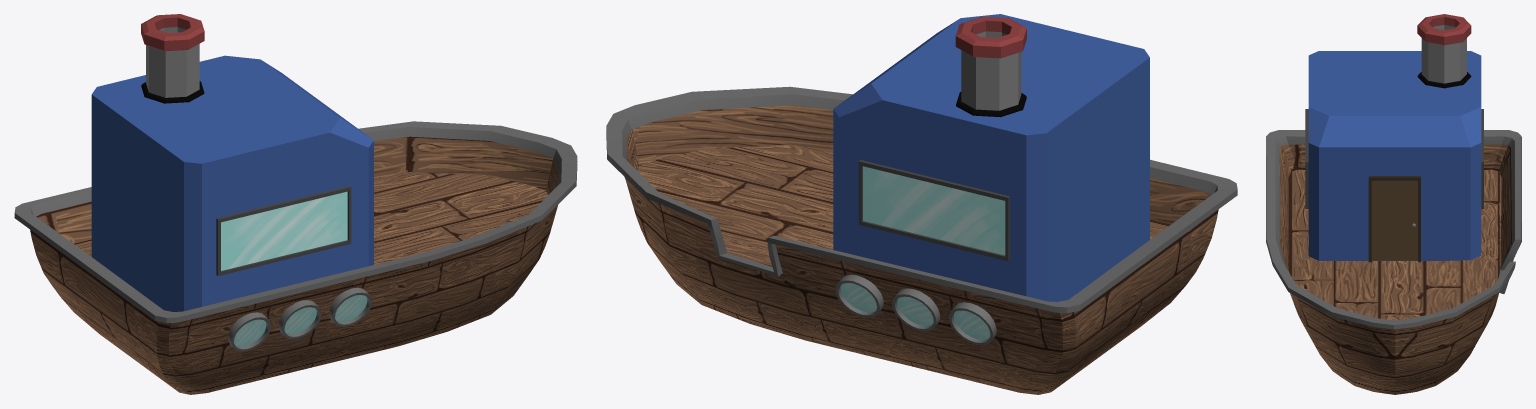
The model's file is Boat 1.fbx.
The picture shows the model from 3 angles, left to right: view 1: azimuth 30°, elevation 25°; view 2: azimuth 150°, elevation 25°; view 3: azimuth 270°, elevation 25°; orthographic projection. The views are drawn at different scales.
Parts seen in each view (by area): view 1: Plane, Cube.001, Cube.005, Cylinder, Circle.001; view 2: Plane, Cube.001, Cube.003, Cylinder, Circle; view 3: Plane, Cube.001, Cube, Cylinder, Cube.005, Cube.003.
Boxes of the visible parts, x1=… form: Plane: x1=14, y1=121, x2=577, y2=394; Cube.001: x1=91, y1=55, x2=373, y2=311; Cube.005: x1=216, y1=186, x2=351, y2=276; Cylinder: x1=141, y1=14, x2=204, y2=103; Circle.001: x1=228, y1=287, x2=371, y2=351; Plane: x1=606, y1=86, x2=1237, y2=394; Cube.001: x1=833, y1=14, x2=1149, y2=301; Cube.003: x1=858, y1=160, x2=1009, y2=260; Cylinder: x1=955, y1=16, x2=1026, y2=117; Circle: x1=835, y1=274, x2=996, y2=345; Plane: x1=1266, y1=130, x2=1521, y2=394; Cube.001: x1=1308, y1=51, x2=1481, y2=260; Cube: x1=1368, y1=176, x2=1420, y2=262; Cylinder: x1=1417, y1=14, x2=1471, y2=88; Cube.005: x1=1305, y1=109, x2=1308, y2=208; Cube.003: x1=1481, y1=109, x2=1483, y2=208.
Bounding box in the file's own units: 900 × 548 × 499.
